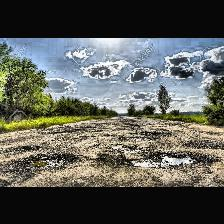pothole: (124, 150, 212, 167), (15, 151, 76, 171), (14, 144, 42, 152)
